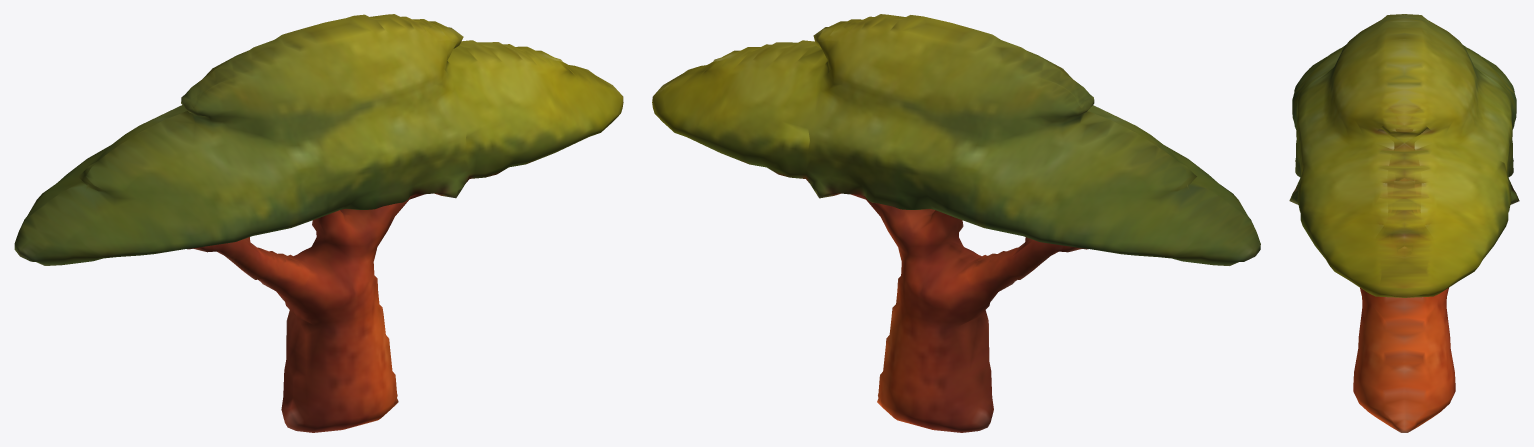
File: 03_baobab_trees_r02_c04.glb
The picture shows the model from 3 angles, left to right: view 1: azimuth 30°, elevation 25°; view 2: azimuth 150°, elevation 25°; view 3: azimuth 270°, elevation 25°; orthographic projection. The views are drawn at different scales.
Parts seen in each view (by area): view 1: 03_baobab_trees_r02_c04; view 2: 03_baobab_trees_r02_c04; view 3: 03_baobab_trees_r02_c04.
Boxes of the visible parts, bbox=[...] form: 03_baobab_trees_r02_c04: bbox=[14, 14, 623, 432]; 03_baobab_trees_r02_c04: bbox=[652, 14, 1260, 432]; 03_baobab_trees_r02_c04: bbox=[1289, 14, 1519, 432].
Size of the model in its own units: 2.01 by 1.25 by 0.7244.
1 material, 1 textured.
